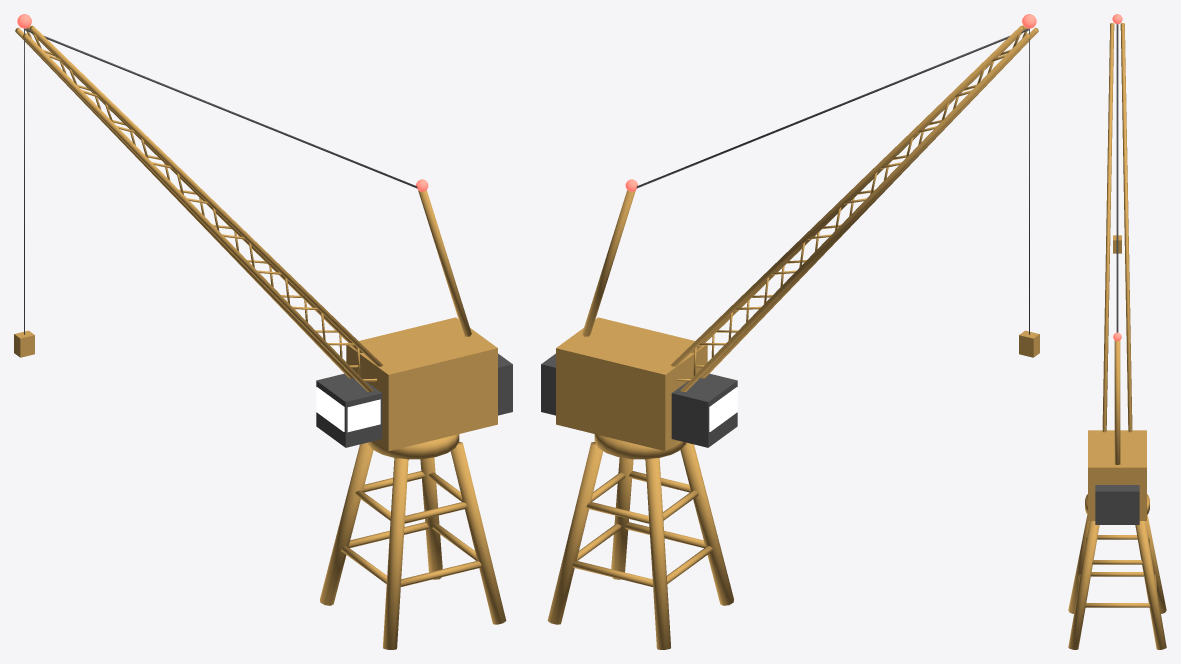
The model's file is crane.glb.
The picture shows the model from 3 angles, left to right: view 1: azimuth 30°, elevation 25°; view 2: azimuth 150°, elevation 25°; view 3: azimuth 270°, elevation 25°; orthographic projection. The views are drawn at different scales.
Visible parts, largest first — view 1: crane; view 2: crane; view 3: crane.
Boxes of the visible parts, x1,y1,x2,y2 form: crane: (14, 14, 512, 649); crane: (541, 14, 1039, 649); crane: (1068, 14, 1166, 649).
Size of the model in its own units: 26.28 by 36.31 by 6.69.
